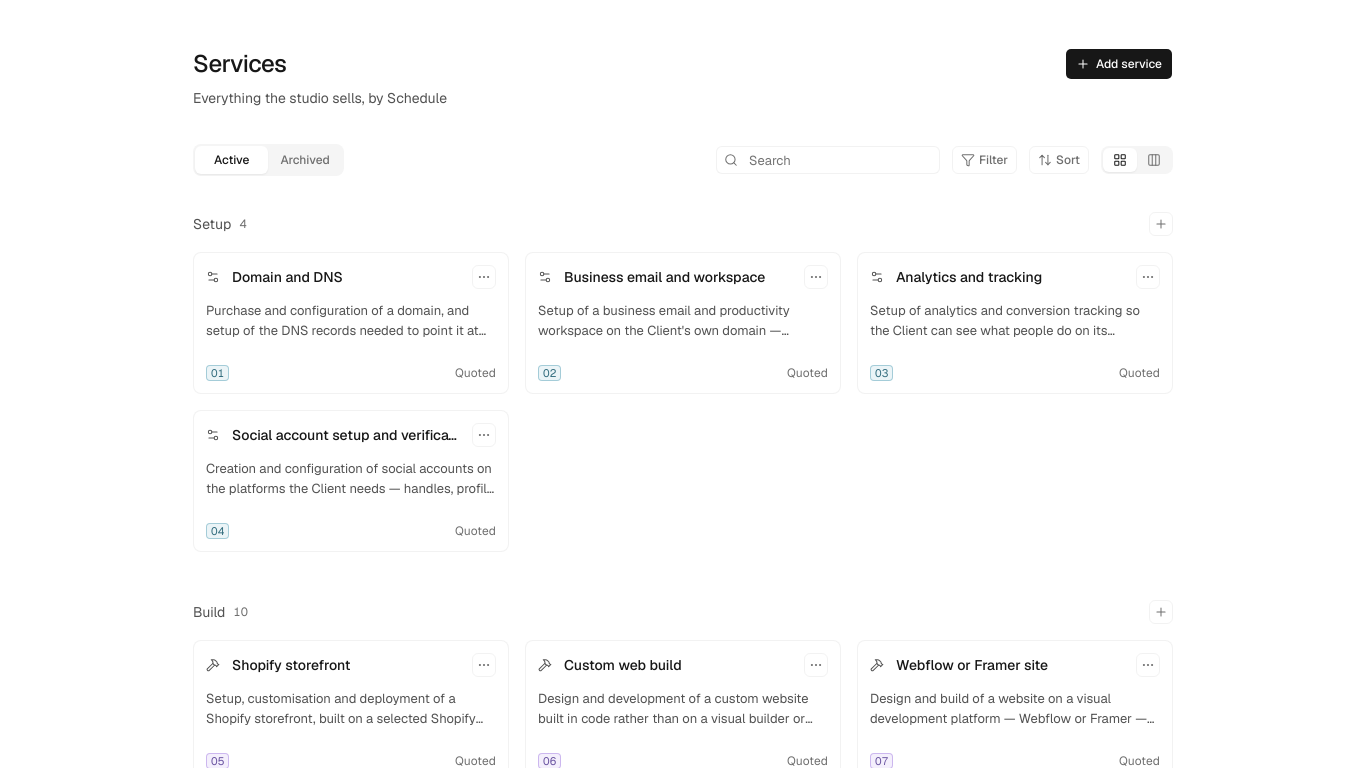
Test: ServiceCatalogue › names both destinations in the menu, in order
Click the button named "Actions for Custom web build" at {"x": 816, "y": 665}, box [804, 653, 828, 677]
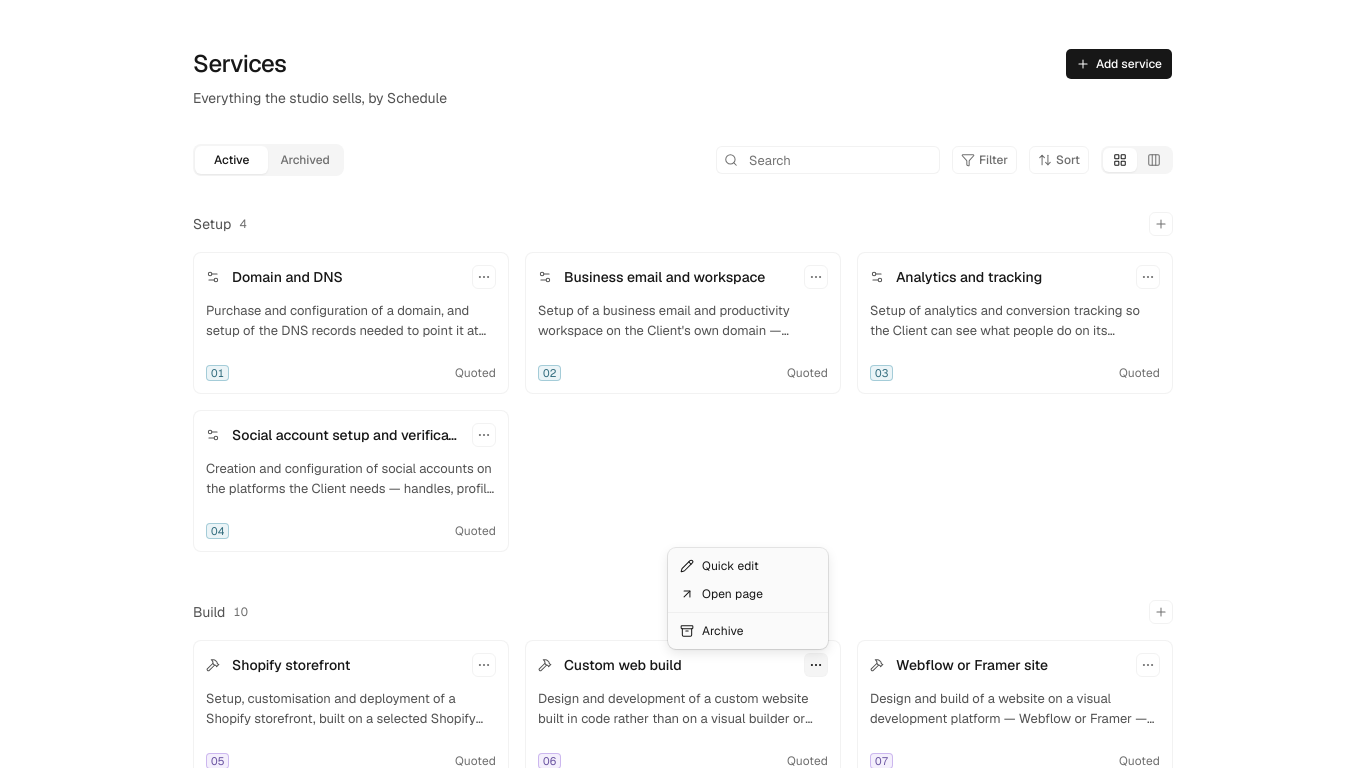
Expected: the menu items read "Quick edit", "Open page", "Archive", in this order, [680, 558, 759, 574]; [680, 586, 763, 602]; [680, 623, 744, 639]
